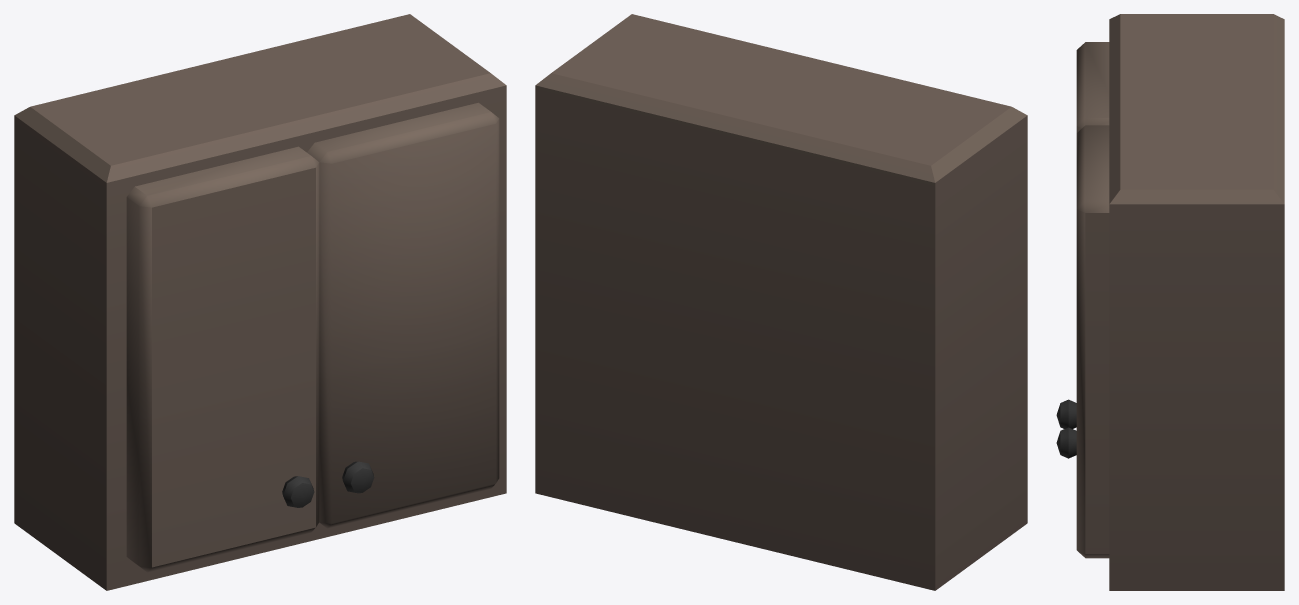
The model's file is kitchencabinet_styleB.obj.
3 renders of one model, left to right at view 1: azimuth 30°, elevation 25°; view 2: azimuth 150°, elevation 25°; view 3: azimuth 270°, elevation 25°, orthographic. The views are drawn at different scales.
Visible parts, largest first — view 1: kitchencabinet_styleB_Cube.027; view 2: kitchencabinet_styleB_Cube.027; view 3: kitchencabinet_styleB_Cube.027.
Boxes of the visible parts, x1,y1,x2,y2 form: kitchencabinet_styleB_Cube.027: [14, 14, 506, 590]; kitchencabinet_styleB_Cube.027: [535, 14, 1027, 590]; kitchencabinet_styleB_Cube.027: [1056, 14, 1284, 590].
Size of the model in its own units: 2 by 2 by 1.04.
Materials: 1 (1 with a texture image).
